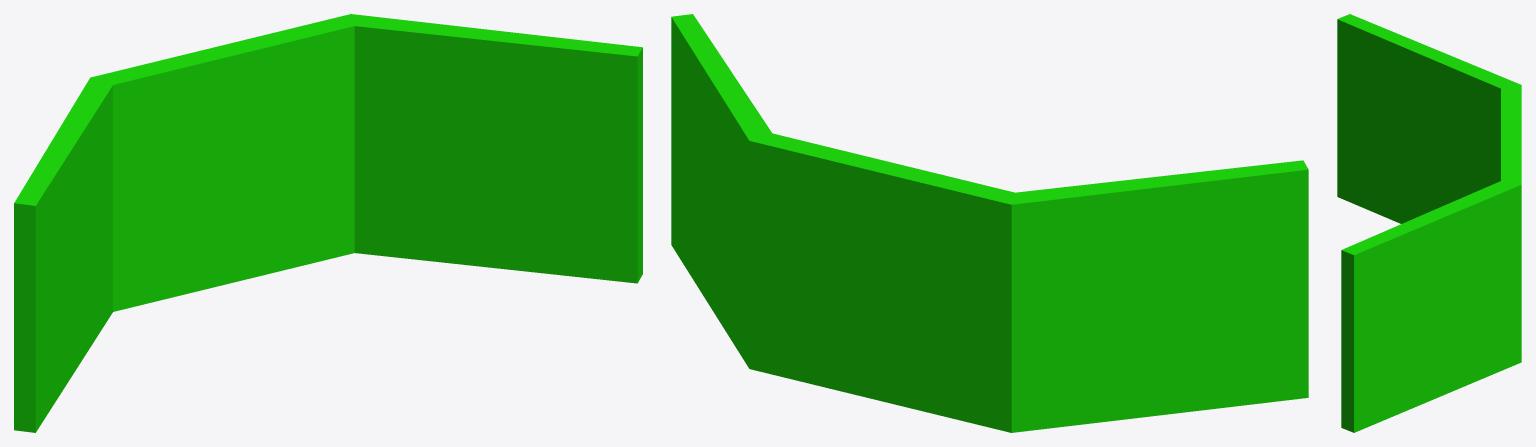
Rendered from SM_wall_180Oct_collider.fbx.
3 renders of one model, left to right at view 1: azimuth 30°, elevation 25°; view 2: azimuth 150°, elevation 25°; view 3: azimuth 270°, elevation 25°, orthographic. The views are drawn at different scales.
Visible parts, largest first — view 1: Cube; view 2: Cube; view 3: Cube.
Part boxes in pixels (<box>): Cube: <box>14,14,642,432</box>; Cube: <box>671,14,1308,432</box>; Cube: <box>1337,14,1521,432</box>.
Size of the model in its own units: 5.02 by 14.61 by 4.72.
